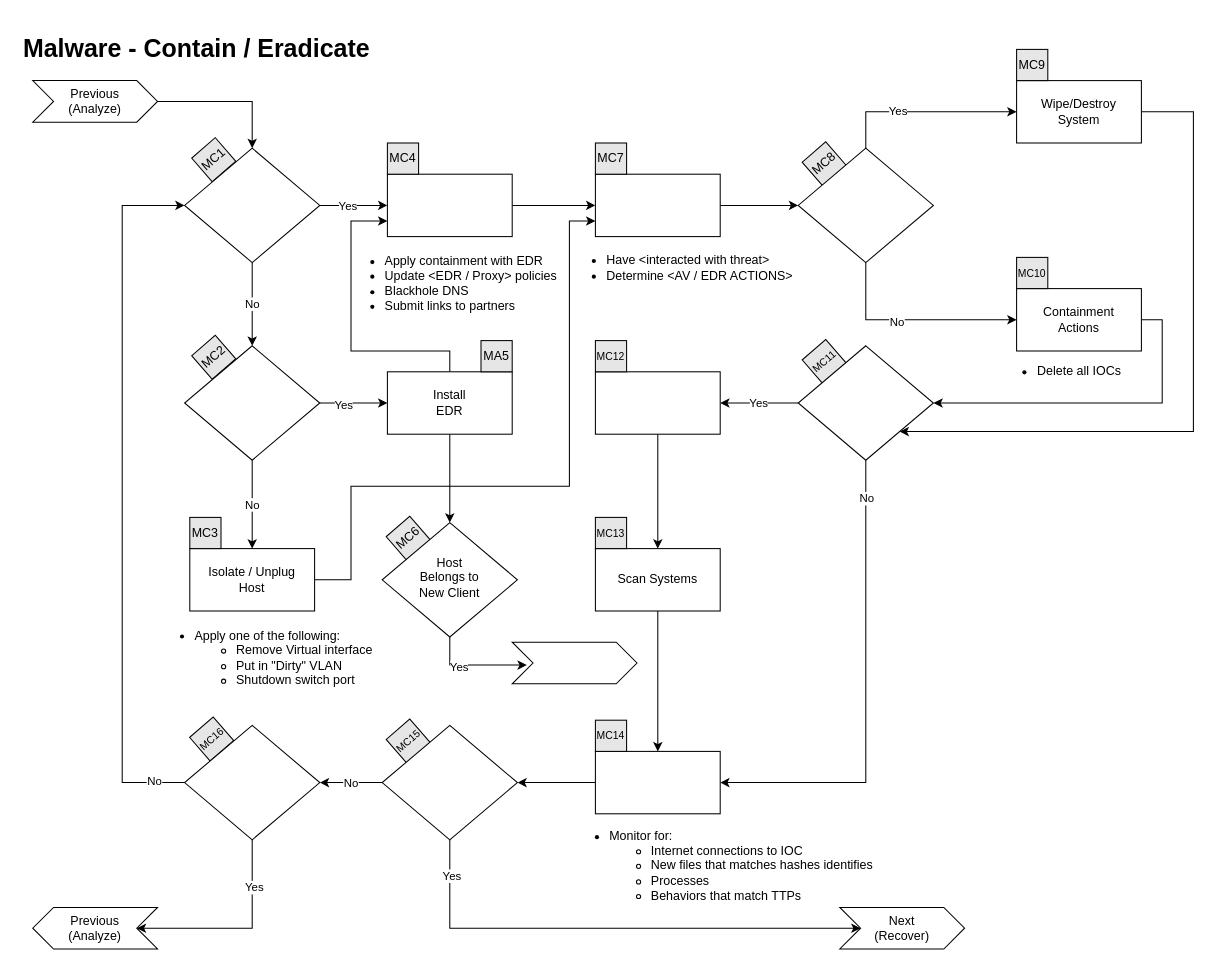
Image size: 1220x967. Some labels were removed from this diagram. The box of each missing label's shape, as (x1, y1, x2, y2) in pixels:
Action Taken by User/Computer: (594, 173, 720, 237)
All Affected Endpoints Contained: (381, 724, 517, 840)
Can We Install EDR on Host: (184, 345, 320, 460)
Close Monitoring: (594, 750, 720, 814)
Contain Affected Host: (386, 173, 512, 237)
Host Have EDR: (184, 147, 320, 263)
Malware Ran as Admin/Root: (797, 147, 933, 263)
New Client Process: (511, 641, 637, 684)
New IOC Discovered: (184, 724, 320, 840)
Update/ Upgrade AV / EDR: (594, 371, 720, 434)
Vendor Provided New Sigs: (797, 345, 933, 460)
